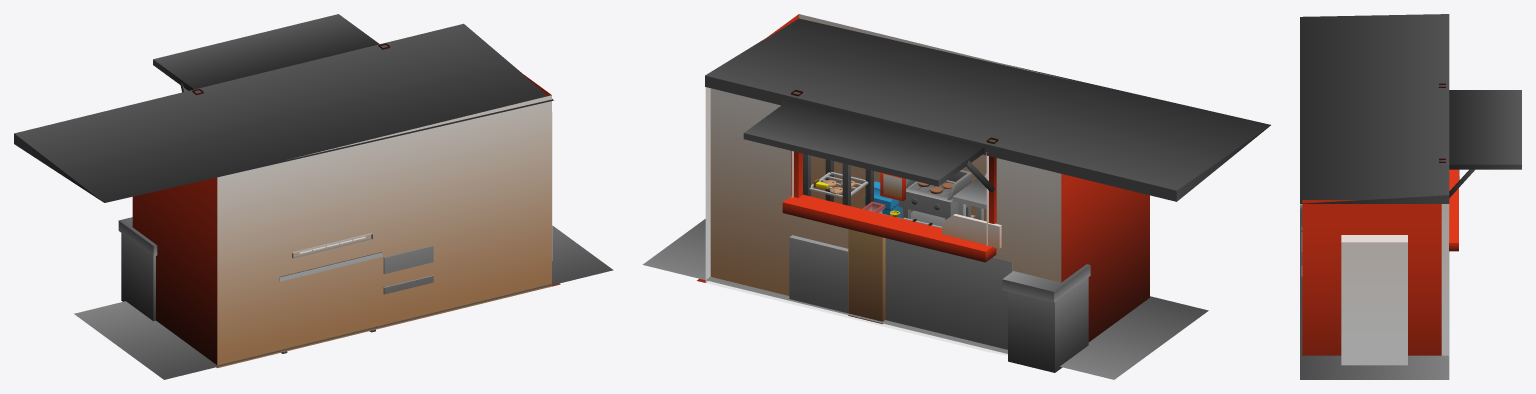
File: FoodTruckv3.fbx
3 renders of one model, left to right at view 1: azimuth 30°, elevation 25°; view 2: azimuth 150°, elevation 25°; view 3: azimuth 270°, elevation 25°, orthographic. The views are drawn at different scales.
Parts seen in each view (by area): view 1: Cube.079, Cube.081, Cube.083, Cube.078, Cube.128, Cube.098, Cube.095; view 2: Cube.081, Cube.079, Cube.083, Cube.078, Cube.128, Cube.080, Cube.087, Cube.091, Cube.115, Cube.114, Cube.085, Cube.098 (+4 smaller); view 3: Cube.081, Cube.079, Cube.083, Cube.078, Cube.080.
Boxes of the visible parts, <box> form: Cube.079: <box>132,69,560,368</box>; Cube.081: <box>14,23,553,202</box>; Cube.083: <box>153,14,379,90</box>; Cube.078: <box>74,225,613,379</box>; Cube.128: <box>118,217,157,321</box>; Cube.098: <box>383,245,433,294</box>; Cube.095: <box>279,252,382,353</box>; Cube.081: <box>705,18,1270,201</box>; Cube.079: <box>697,14,1149,355</box>; Cube.083: <box>743,99,984,186</box>; Cube.078: <box>642,219,1208,379</box>; Cube.128: <box>1002,264,1090,372</box>; Cube.080: <box>782,194,996,262</box>; Cube.087: <box>789,235,848,313</box>; Cube.091: <box>885,217,941,330</box>; Cube.115: <box>927,248,969,340</box>; Cube.114: <box>969,257,1012,349</box>; Cube.085: <box>848,213,900,324</box>; Cube.098: <box>899,170,975,226</box>; Cube.081: <box>1300,14,1449,203</box>; Cube.079: <box>1302,200,1449,365</box>; Cube.083: <box>1449,90,1521,169</box>; Cube.078: <box>1300,208,1449,379</box>; Cube.080: <box>1449,169,1458,251</box>.
Bounding box in the file's own units: 668 × 254 × 306.
